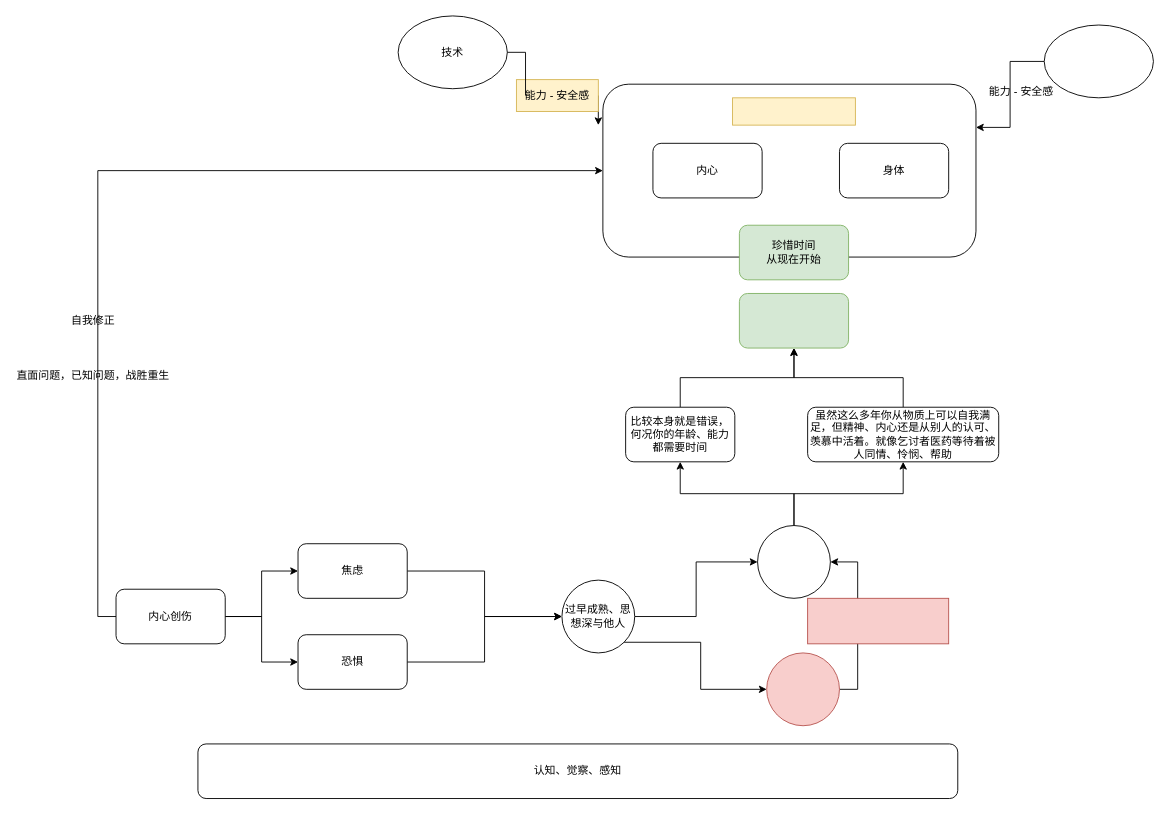
Image size: 1169x814. Some labels were removed from this diagram. Each missing label, with the centre of its shape:
"坠落" goes at (x=802, y=689).
"强者思维、(不靠、不等、不求)" goes at (x=793, y=320).
"必须改变，否则一切都是沙滩上的大楼、倒塌" goes at (x=878, y=620).
"投资" goes at (x=1098, y=61).
"身体内心重建" goes at (x=793, y=111).
"重生，将所有承受的转化，突破，融合，而不是白白付出" goes at (x=793, y=561).
